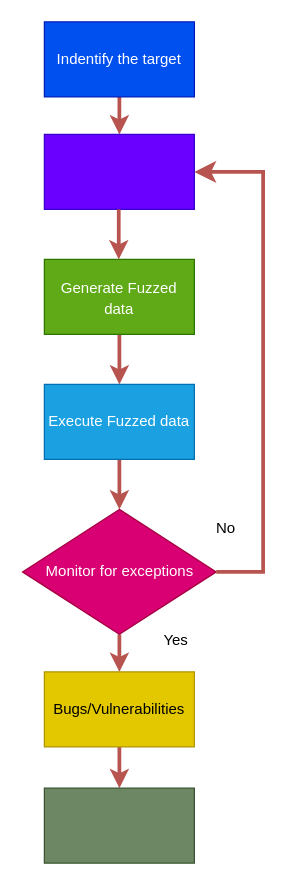
This 299x885 diagram has some shape labels left out. The shapes that lost their labels are listed below. From the top down, each one's box as (x1, y1, x2, y2) in pixels, then its label:
(43, 133, 194, 209): Indentify the input
(43, 787, 194, 863): Determine exploitability
